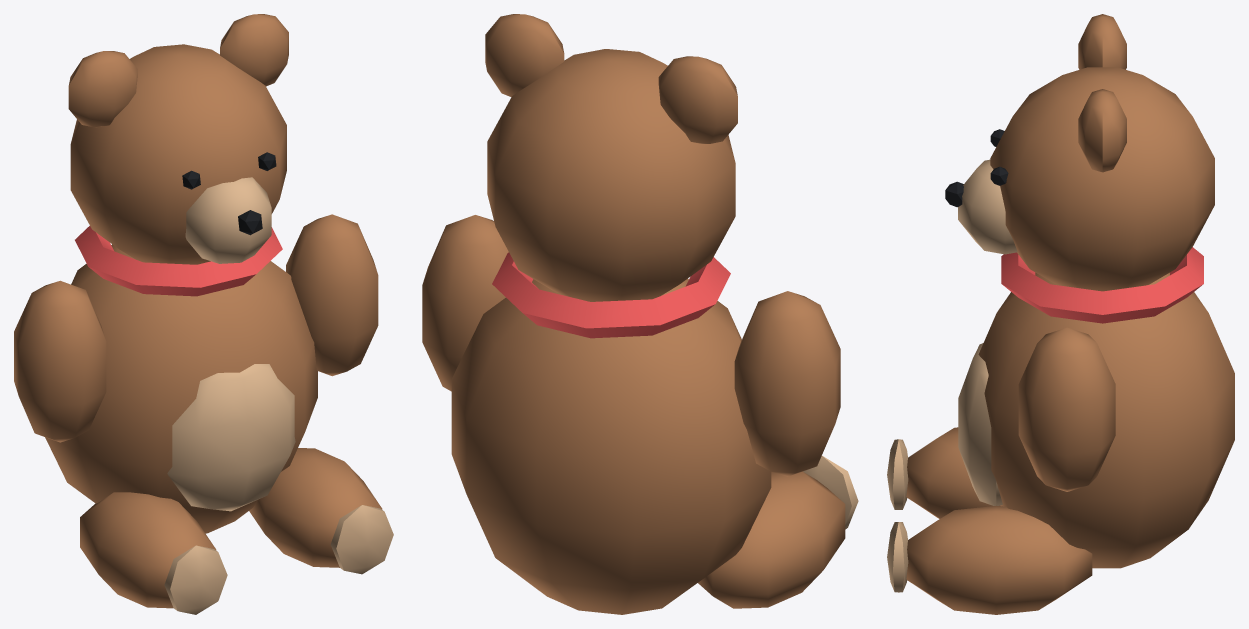
File: teddy_bear.glb
3 renders of one model, left to right at view 1: azimuth 30°, elevation 25°; view 2: azimuth 150°, elevation 25°; view 3: azimuth 270°, elevation 25°, orthographic. The views are drawn at different scales.
Visible parts, largest first — view 1: teddy_bear; view 2: teddy_bear; view 3: teddy_bear.
Part boxes in pixels (x1,y1,x2,y2): teddy_bear: (14, 14, 393, 614); teddy_bear: (422, 14, 858, 614); teddy_bear: (887, 14, 1234, 614).
Size of the model in its own units: 0.2348 by 0.3194 by 0.1962.
